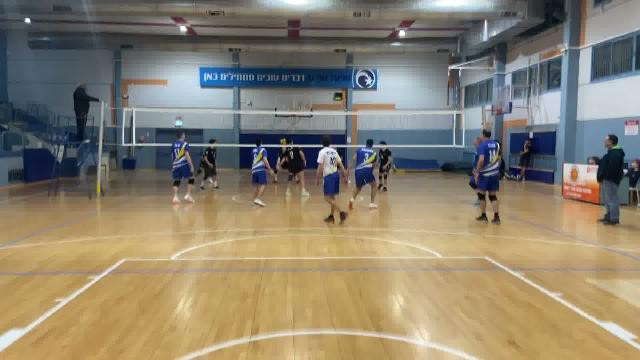ball: (280, 138, 291, 150)
